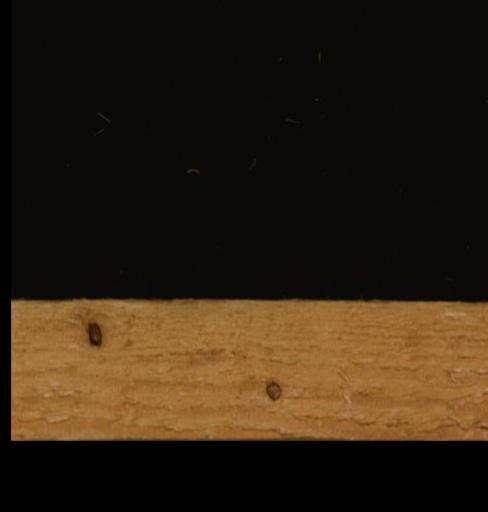dry_knot: (85, 317, 104, 346), (264, 377, 282, 400)
